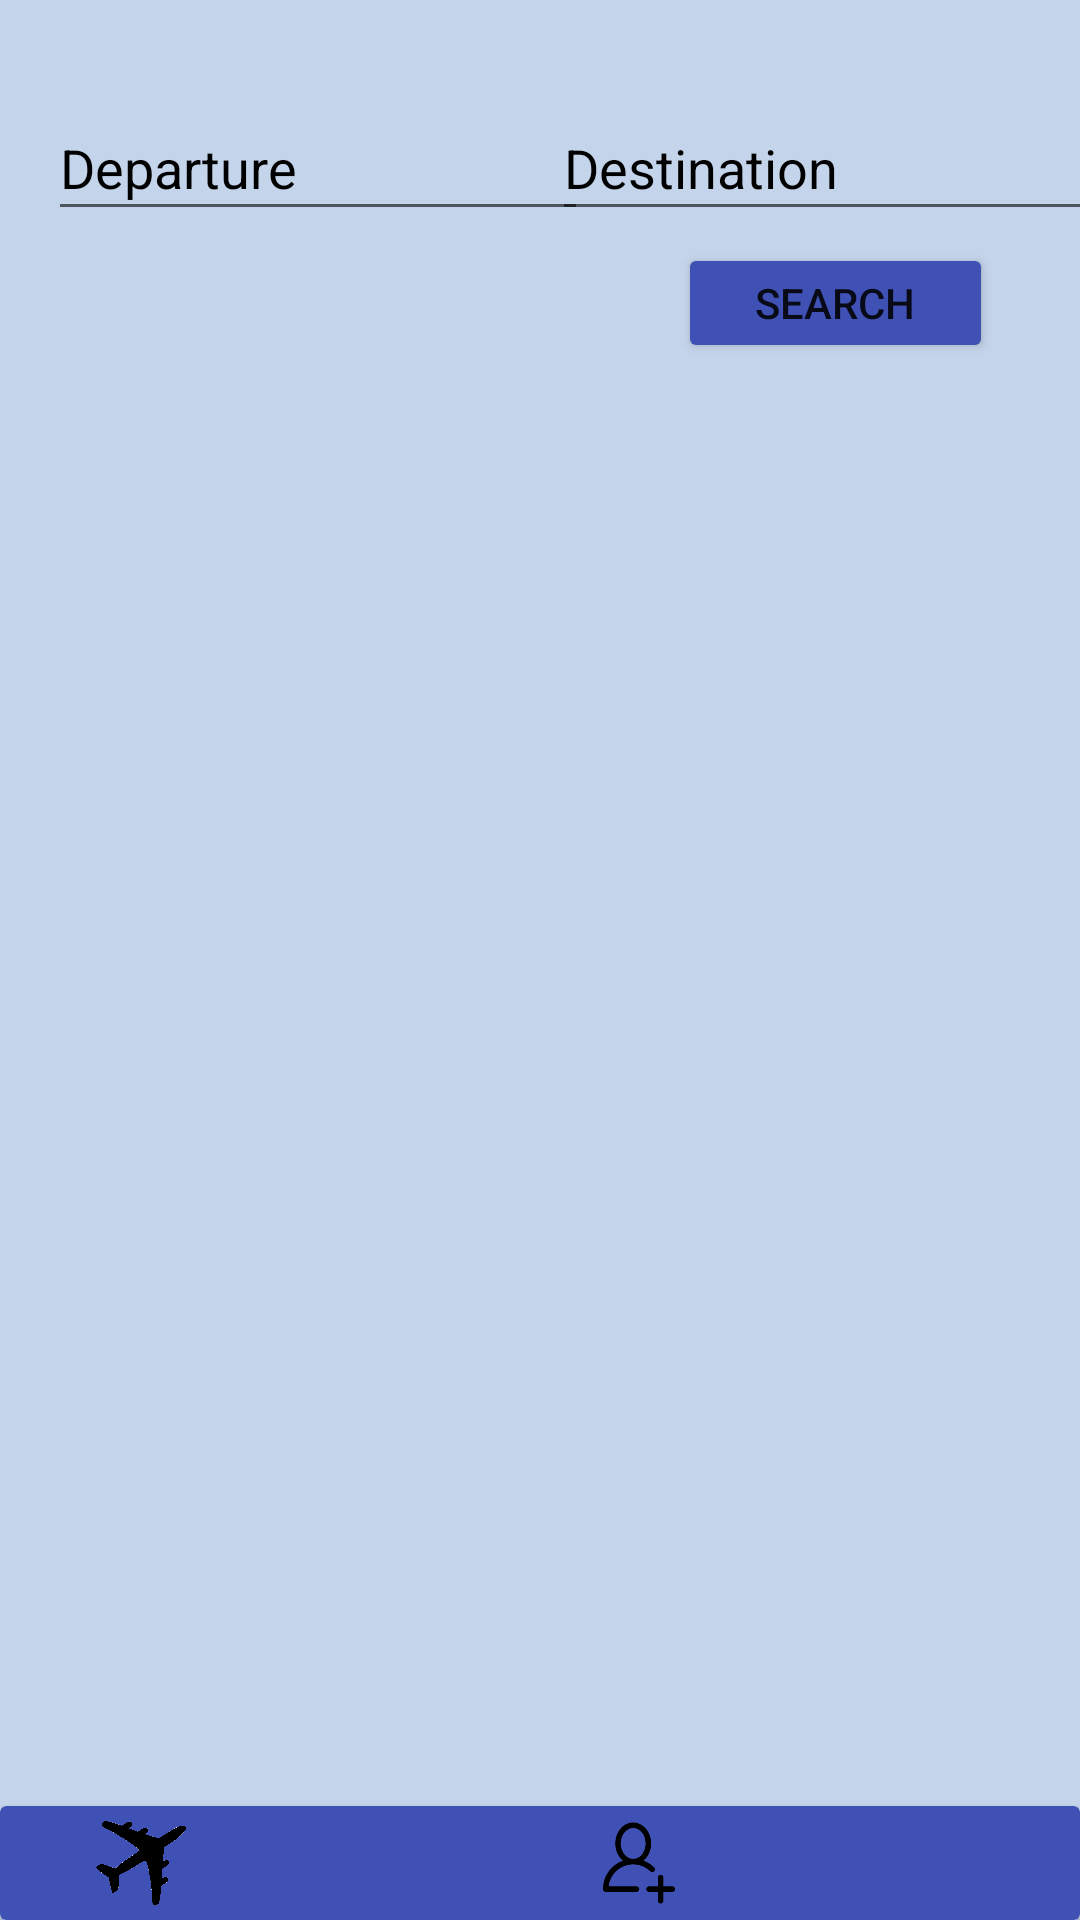

Named icons in this screenshot (1080 × 1920) and their centers, point (x, y):
plane: point (141, 1863)
